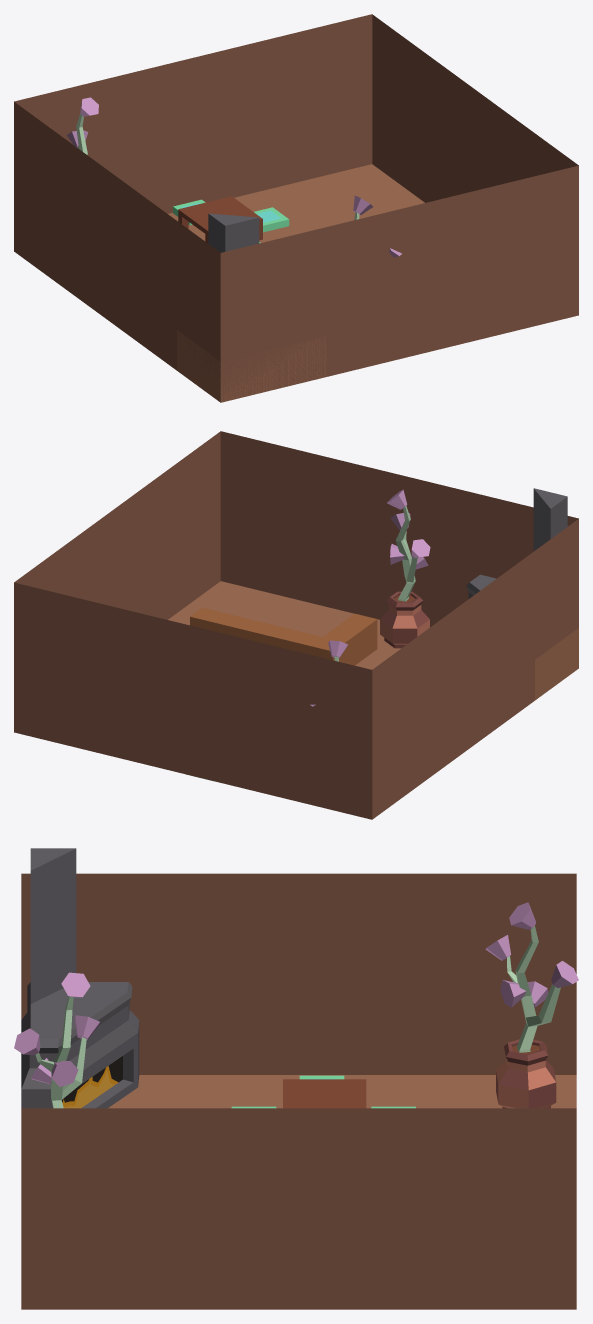
The model's file is Inn.fbx.
3 renders of one model, top to bottom at view 1: azimuth 30°, elevation 25°; view 2: azimuth 150°, elevation 25°; view 3: azimuth 270°, elevation 25°, orthographic. The views are drawn at different scales.
Parts seen in each view (by area): view 1: Plane.004, Plane.001, Plane.003, Plane.002, Plane, Table.001, Flower.001, Seat1.007; view 2: Plane.001, Plane.004, Plane.003, Plane.002, Plane, Counter, Jar, Flower; view 3: Plane.002, Plane.003, Plane, Flower.001, Flower, Jar.001, Table.
Part boxes in pixels (bbox=[...]): Plane.004: bbox=[220, 165, 578, 402]; Plane.001: bbox=[14, 14, 372, 213]; Plane.003: bbox=[14, 102, 220, 395]; Plane.002: bbox=[372, 14, 578, 202]; Plane: bbox=[168, 164, 424, 402]; Table.001: bbox=[178, 196, 262, 243]; Flower.001: bbox=[67, 97, 98, 154]; Seat1.007: bbox=[254, 207, 289, 232]; Plane.001: bbox=[14, 582, 372, 819]; Plane.004: bbox=[220, 431, 578, 627]; Plane.003: bbox=[372, 519, 578, 819]; Plane.002: bbox=[14, 431, 220, 619]; Plane: bbox=[168, 488, 578, 700]; Counter: bbox=[190, 607, 377, 665]; Jar: bbox=[380, 591, 429, 648]; Flower: bbox=[387, 489, 430, 601]; Plane.002: bbox=[21, 1108, 576, 1309]; Plane.003: bbox=[21, 873, 576, 1074]; Plane: bbox=[21, 848, 576, 1108]; Flower.001: bbox=[485, 902, 578, 1052]; Flower: bbox=[14, 972, 99, 1108]; Jar.001: bbox=[496, 1039, 556, 1108]; Table: bbox=[283, 1079, 366, 1108].
Bounding box in the file's own units: 3087 × 1427 × 3141.
